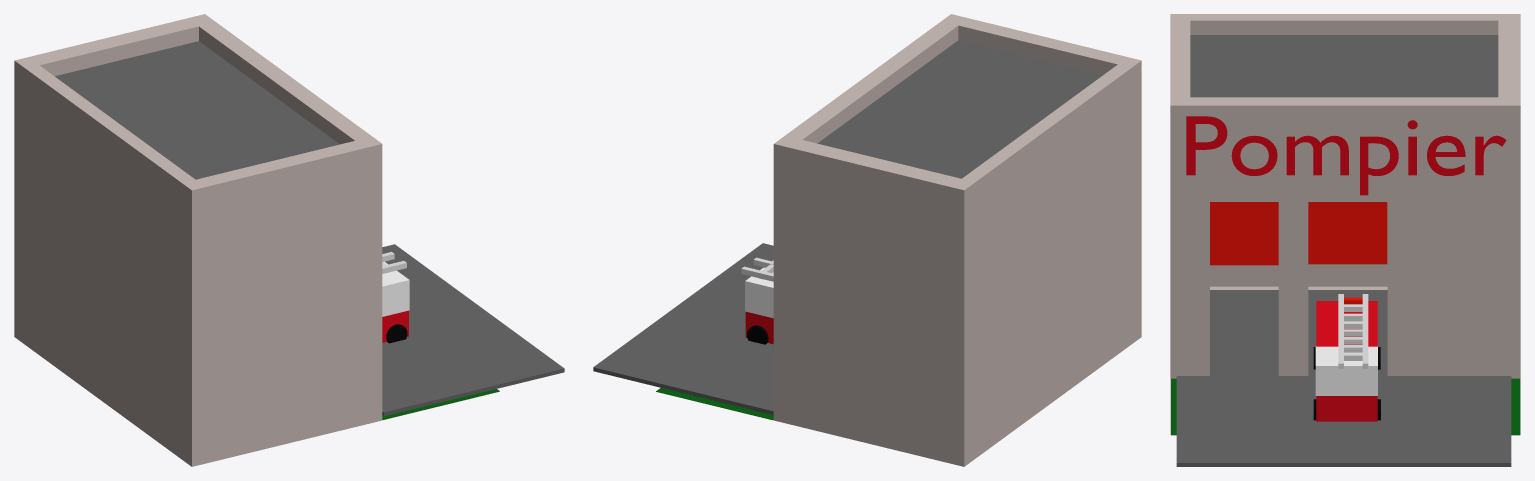
The model's file is CasernePompier.fbx.
3 renders of one model, left to right at view 1: azimuth 30°, elevation 25°; view 2: azimuth 150°, elevation 25°; view 3: azimuth 270°, elevation 25°, orthographic.
Visible parts, largest first — view 1: Cube, Cube.020, Cube.017, Cube.004; view 2: Cube, Cube.020, Cube.017, Cube.004, Cube.019; view 3: Cube, Cube.017, Cube.020, Cube.015, Text, Cube.001, Cube.002, Cube.003, Cube.004, Cube.019, Cube.005, Cube.006.
Part boxes in pixels (x1,y1,x2,y2): Cube: [14, 14, 499, 466]; Cube.020: [55, 41, 339, 179]; Cube.017: [382, 244, 564, 416]; Cube.004: [382, 261, 409, 316]; Cube: [663, 14, 1141, 466]; Cube.020: [817, 40, 1102, 178]; Cube.017: [593, 243, 773, 414]; Cube.004: [745, 260, 773, 318]; Cube.019: [656, 388, 773, 420]; Cube: [1170, 14, 1520, 434]; Cube.017: [1176, 376, 1511, 466]; Cube.020: [1190, 35, 1498, 97]; Cube.015: [1210, 290, 1387, 375]; Text: [1186, 116, 1506, 195]; Cube.001: [1308, 202, 1387, 264]; Cube.002: [1210, 202, 1278, 265]; Cube.003: [1316, 301, 1377, 421]; Cube.004: [1315, 346, 1377, 395]; Cube.019: [1171, 378, 1520, 435]; Cube.005: [1362, 294, 1368, 368]; Cube.006: [1338, 294, 1343, 368].
Size of the model in its own units: 243 by 171 by 199.
